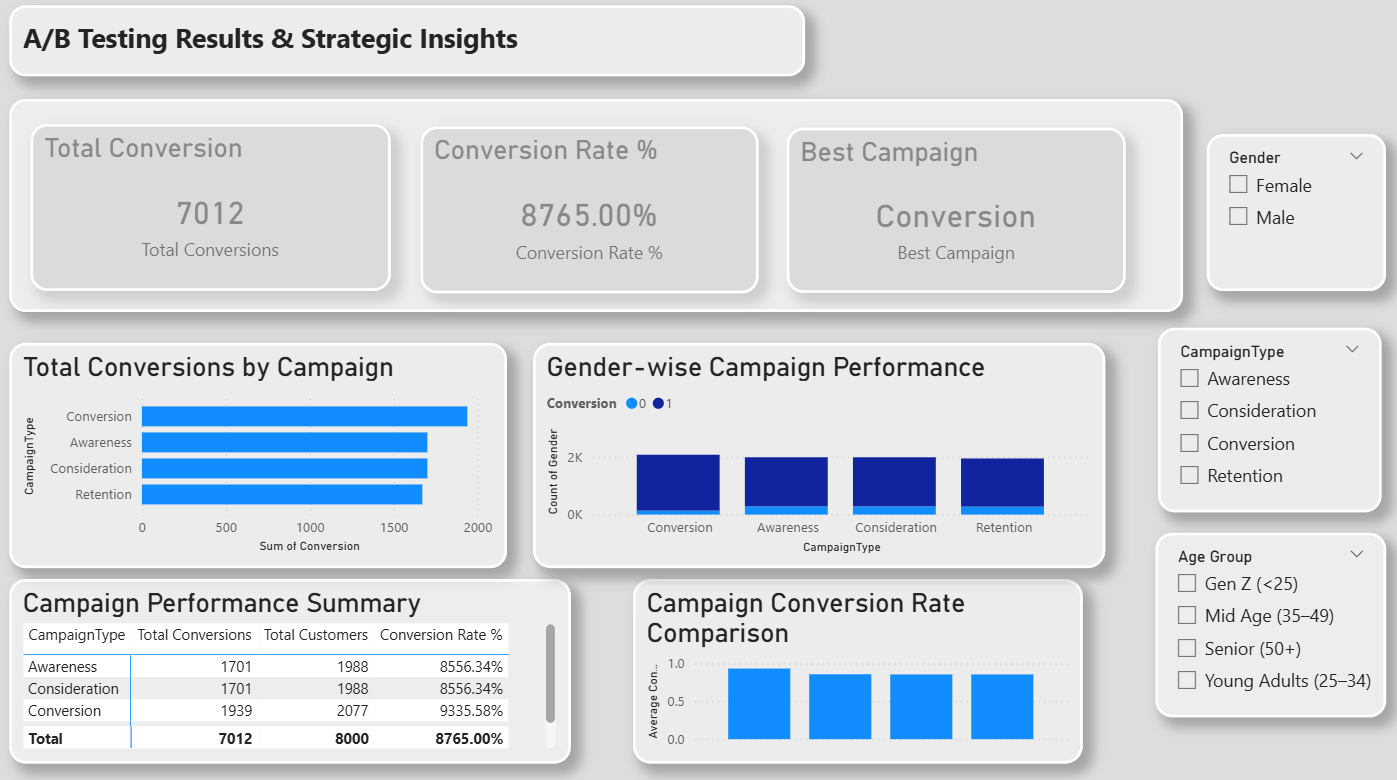

Layout of this report page (visuals, bound fields, positions):
{"tool":"powerbi","page":{"name":"A/B Testing Results & Strategic Insights","canvas":[1280,720],"ordinal":3},"visuals":[{"type":"textbox","box":[10,15,717.8,63.9],"z":0},{"type":"card","title":"Total Conversion","fields":{"Values":["digital marketing campaign dataset.Total Conversions"]},"box":[28.8,121.5,324.4,150.3],"z":1000},{"type":"card","title":"Conversion Rate %","fields":{"Values":["digital marketing campaign dataset.Conversion Rate %"]},"box":[380.8,124,304.4,150.3],"z":2000},{"type":"card","title":"Best Campaign","fields":{"Values":["digital marketing campaign dataset.Best Campaign"]},"box":[711.5,125.3,305.7,149.1],"z":3000},{"type":"textbox","box":[10,99,1058.5,191.7],"z":4000},{"type":"clusteredColumnChart","title":"Campaign Conversion Rate Comparison","fields":{"Category":["digital marketing campaign dataset.CampaignType"],"Y":["digital marketing campaign dataset.Average Conversion"]},"box":[572.5,532.4,405.9,166.6],"z":5000},{"type":"clusteredBarChart","title":"Total Conversions by Campaign","fields":{"Category":["digital marketing campaign dataset.CampaignType"],"Y":["Sum(digital marketing campaign dataset.Conversion)"]},"box":[10,319.4,448.5,202.9],"z":6000},{"type":"pivotTable","title":"Campaign Performance Summary","fields":{"Rows":["digital marketing campaign dataset.CampaignType"],"Values":["digital marketing campaign dataset.Total Conversions","digital marketing campaign dataset.Total Customers","digital marketing campaign dataset.Conversion Rate %"]},"box":[10,532.4,506.1,166.6],"z":7000},{"type":"columnChart","title":"Gender-wise Campaign Performance","fields":{"Category":["digital marketing campaign dataset.CampaignType"],"Y":["CountNonNull(digital marketing campaign dataset.Gender)"],"Series":["digital marketing campaign dataset.Conversion"]},"box":[482.3,319.4,516.1,202.9],"z":8000},{"type":"slicer","fields":{"Values":["digital marketing campaign dataset.Age Group"]},"box":[1043.5,489.8,207.9,166.6],"z":9000},{"type":"slicer","fields":{"Values":["digital marketing campaign dataset.Gender"]},"box":[1089.8,130.3,161.6,141.6],"z":10000},{"type":"slicer","fields":{"Values":["digital marketing campaign dataset.CampaignType"]},"box":[1046,305.7,201.7,166.6],"z":11000}]}

Visuals, with their boxes in screenshot pixels (x1, y1, x2, y2), scaled from the page's 1280x720 canvas onto the 1397x780 screenshot:
textbox: {"x1": 11, "y1": 16, "x2": 794, "y2": 85}
"Total Conversion" card: {"x1": 31, "y1": 132, "x2": 385, "y2": 294}
"Conversion Rate %" card: {"x1": 416, "y1": 134, "x2": 748, "y2": 297}
"Best Campaign" card: {"x1": 777, "y1": 136, "x2": 1110, "y2": 297}
textbox: {"x1": 11, "y1": 107, "x2": 1166, "y2": 315}
"Campaign Conversion Rate Comparison" clusteredColumnChart: {"x1": 625, "y1": 577, "x2": 1068, "y2": 757}
"Total Conversions by Campaign" clusteredBarChart: {"x1": 11, "y1": 346, "x2": 500, "y2": 566}
"Campaign Performance Summary" pivotTable: {"x1": 11, "y1": 577, "x2": 563, "y2": 757}
"Gender-wise Campaign Performance" columnChart: {"x1": 526, "y1": 346, "x2": 1090, "y2": 566}
slicer - digital marketing campaign dataset.Age Group: {"x1": 1139, "y1": 531, "x2": 1366, "y2": 711}
slicer - digital marketing campaign dataset.Gender: {"x1": 1189, "y1": 141, "x2": 1366, "y2": 295}
slicer - digital marketing campaign dataset.CampaignType: {"x1": 1142, "y1": 331, "x2": 1362, "y2": 512}
